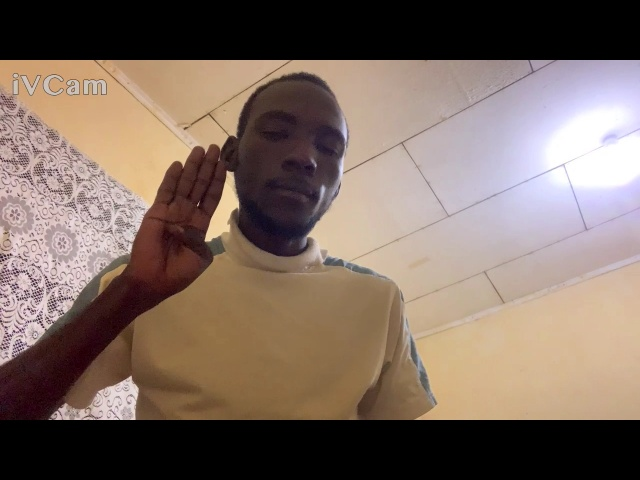s'il te plait: (120, 143, 230, 308)
